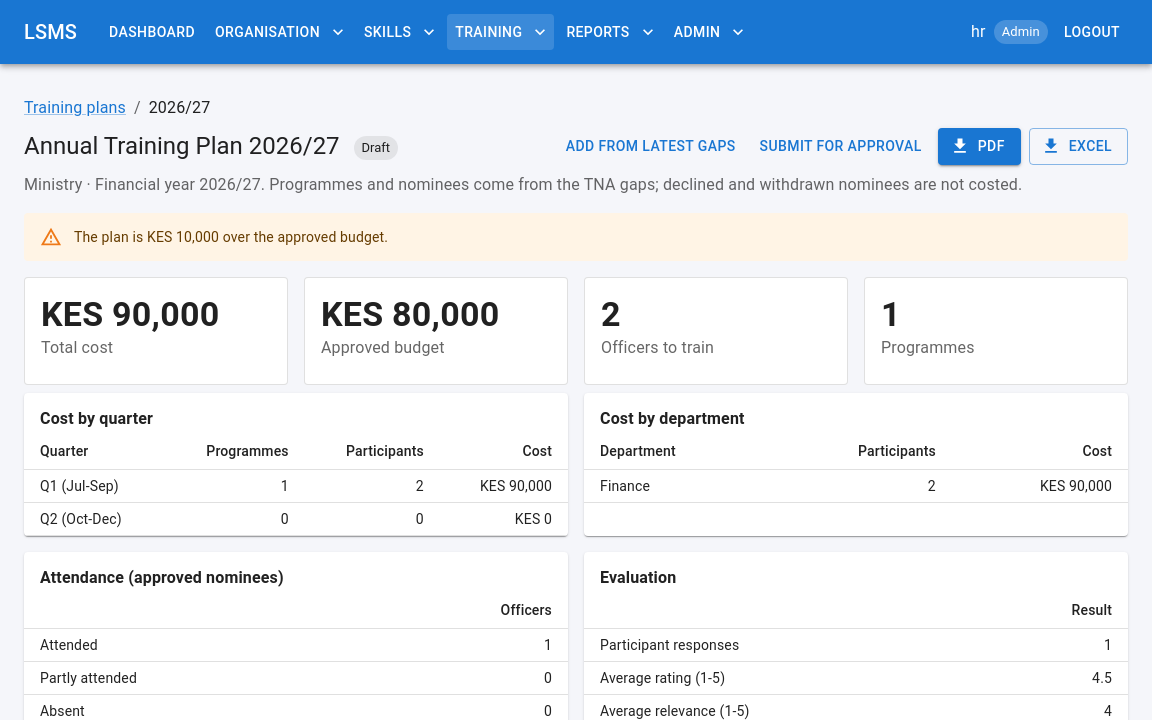
Test: admins see the costed training plan against its budget
This screenshot has width=1152, height=720.
Expected: the text "The plan is KES 10,000 over the approved budget." is shown, [74,228,388,244]
Expected: the text "Finance" is shown, [584,469,766,502]
Click the button "Add from latest gaps": (651, 146) [558,128,744,164]
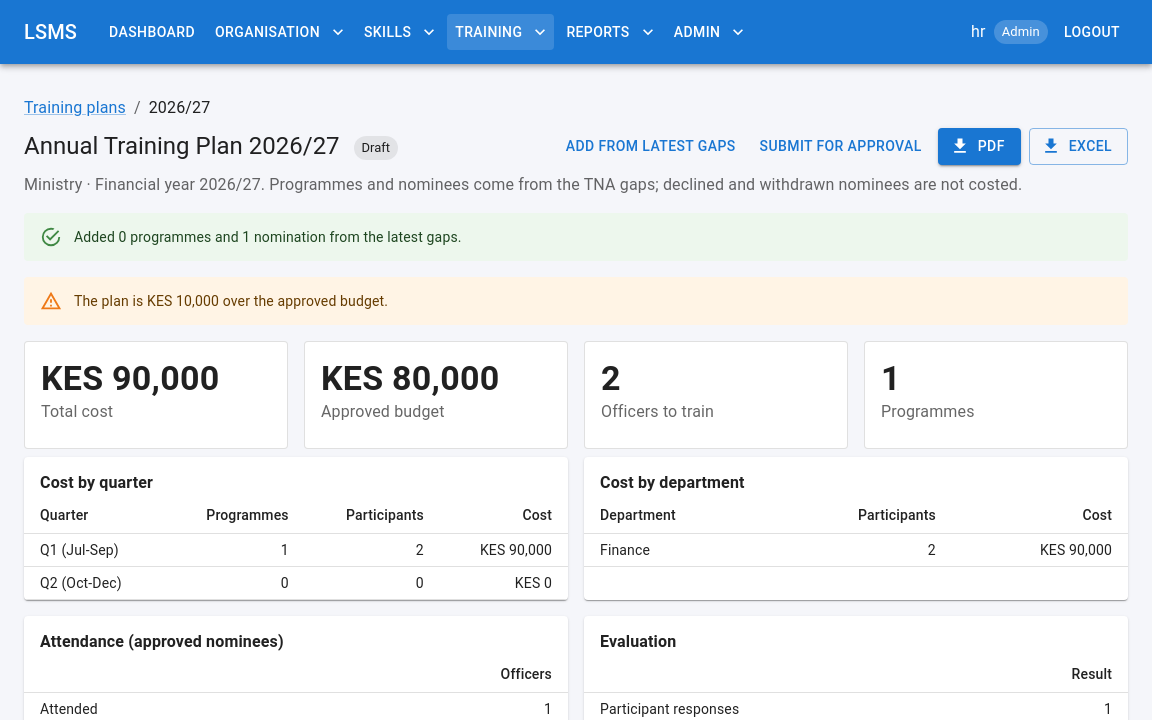
Expected: the button "Submit for approval" is shown, [752,128,930,164]
Now the text "Added 0 programmes and 1 nomination from the latest gaps." is shown, box [74,228,462,244]
